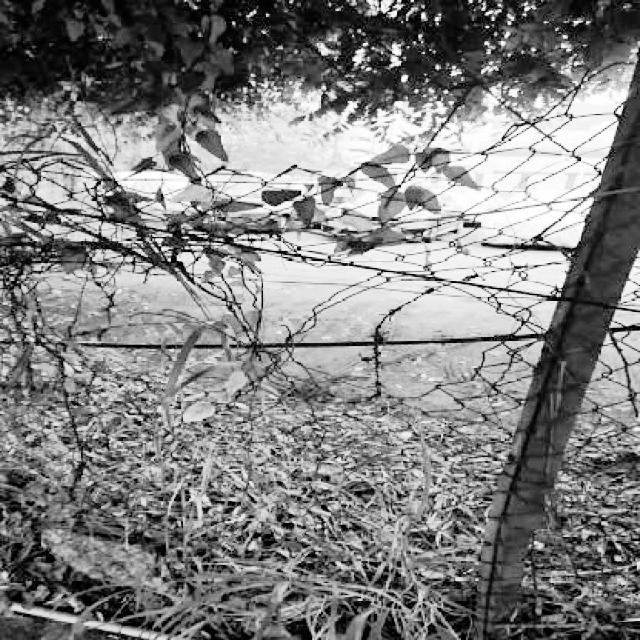anomaly-fence: (0, 60, 640, 456)
